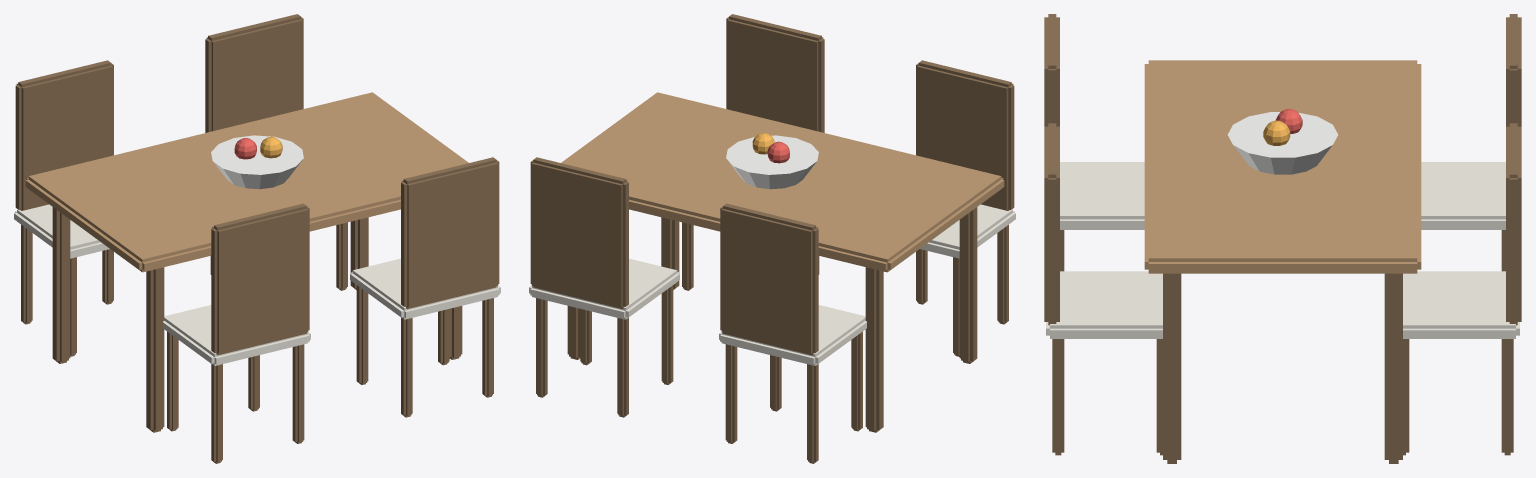
File: Interior_DiningSet.fbx
3 renders of one model, left to right at view 1: azimuth 30°, elevation 25°; view 2: azimuth 150°, elevation 25°; view 3: azimuth 270°, elevation 25°, orthographic. The views are drawn at different scales.
Parts seen in each view (by area): view 1: Interior_DiningSet; view 2: Interior_DiningSet; view 3: Interior_DiningSet.
Boxes of the visible parts, bbox=[...] form: Interior_DiningSet: bbox=[14, 14, 500, 463]; Interior_DiningSet: bbox=[529, 14, 1015, 463]; Interior_DiningSet: bbox=[1044, 14, 1521, 463].
Bounding box in the file's own units: 1.55 × 1.01 × 1.55.
